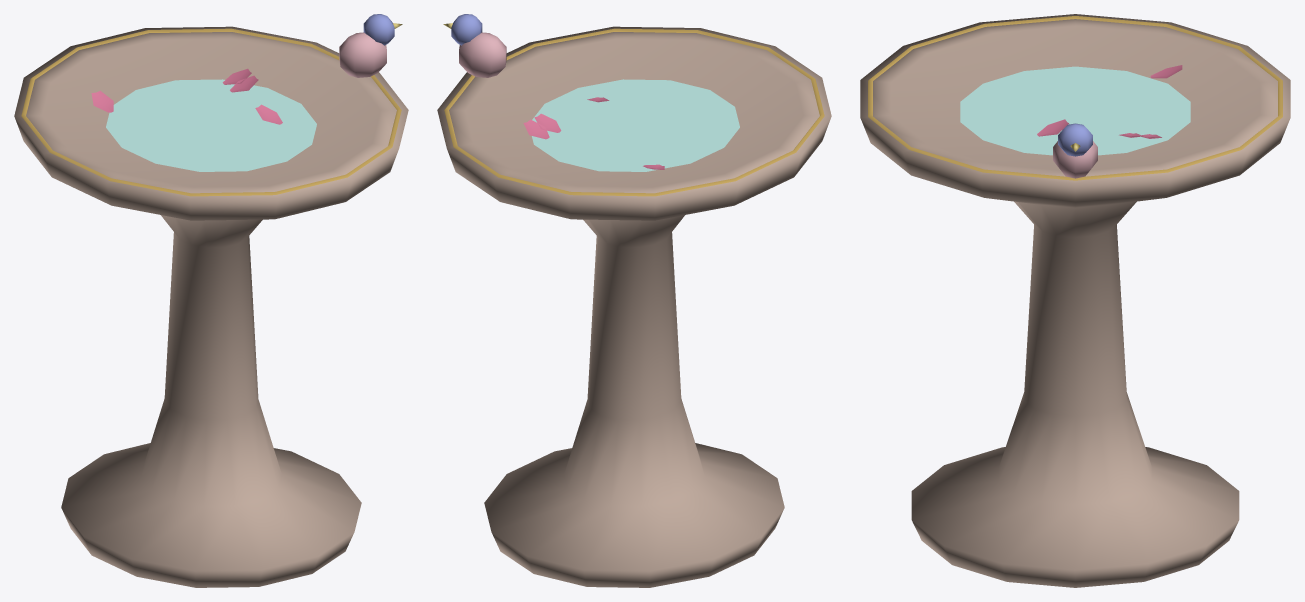
File: birdbath.glb
The picture shows the model from 3 angles, left to right: view 1: azimuth 30°, elevation 25°; view 2: azimuth 150°, elevation 25°; view 3: azimuth 270°, elevation 25°; orthographic projection. The views are drawn at different scales.
Parts seen in each view (by area): view 1: birdbath; view 2: birdbath; view 3: birdbath.
Part boxes in pixels (left/top/right/bottom): birdbath: left=14, top=14, right=408, bottom=587; birdbath: left=437, top=14, right=831, bottom=587; birdbath: left=860, top=14, right=1290, bottom=587.
Size of what is drawn, in the model's own units: 0.8 by 1 by 0.8.
